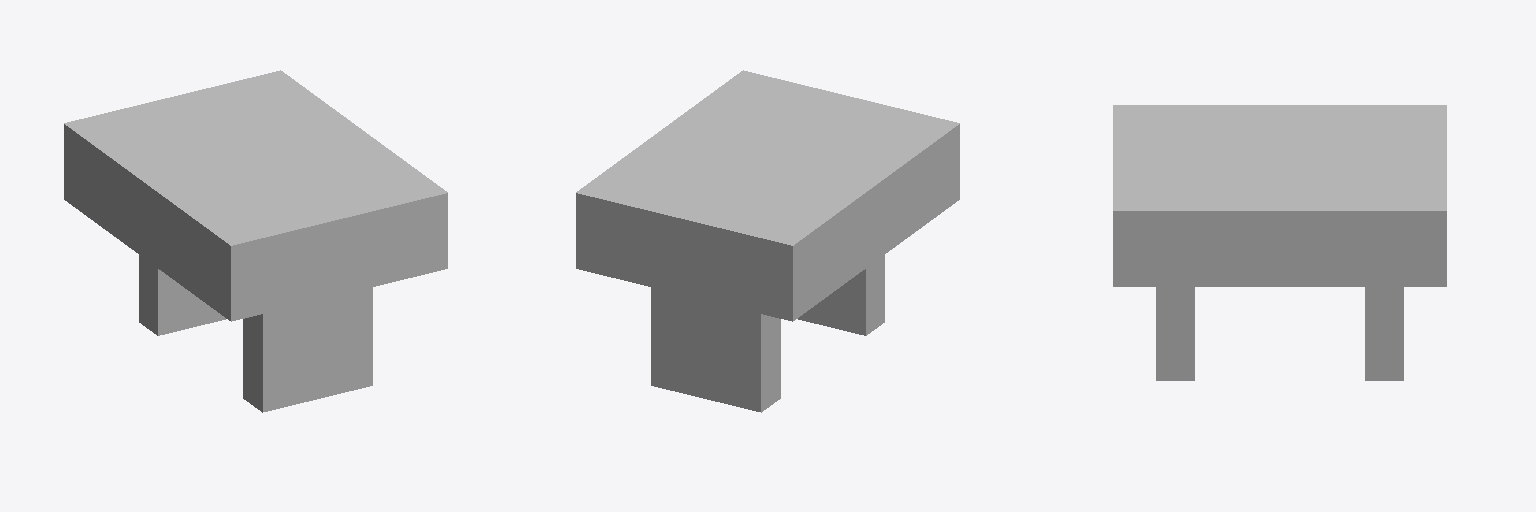
File: altar.obj
The picture shows the model from 3 angles: view 1: azimuth 30°, elevation 25°; view 2: azimuth 150°, elevation 25°; view 3: azimuth 270°, elevation 25°; orthographic projection.
Parts seen in each view (by area): view 1: Cube.001; view 2: Cube.001; view 3: Cube.001.
Boxes of the visible parts, x1=… form: Cube.001: x1=64, y1=70, x2=447, y2=412; Cube.001: x1=576, y1=70, x2=959, y2=412; Cube.001: x1=1113, y1=105, x2=1446, y2=380.
Size of the model in its own units: 0.6 by 0.516 by 0.8.